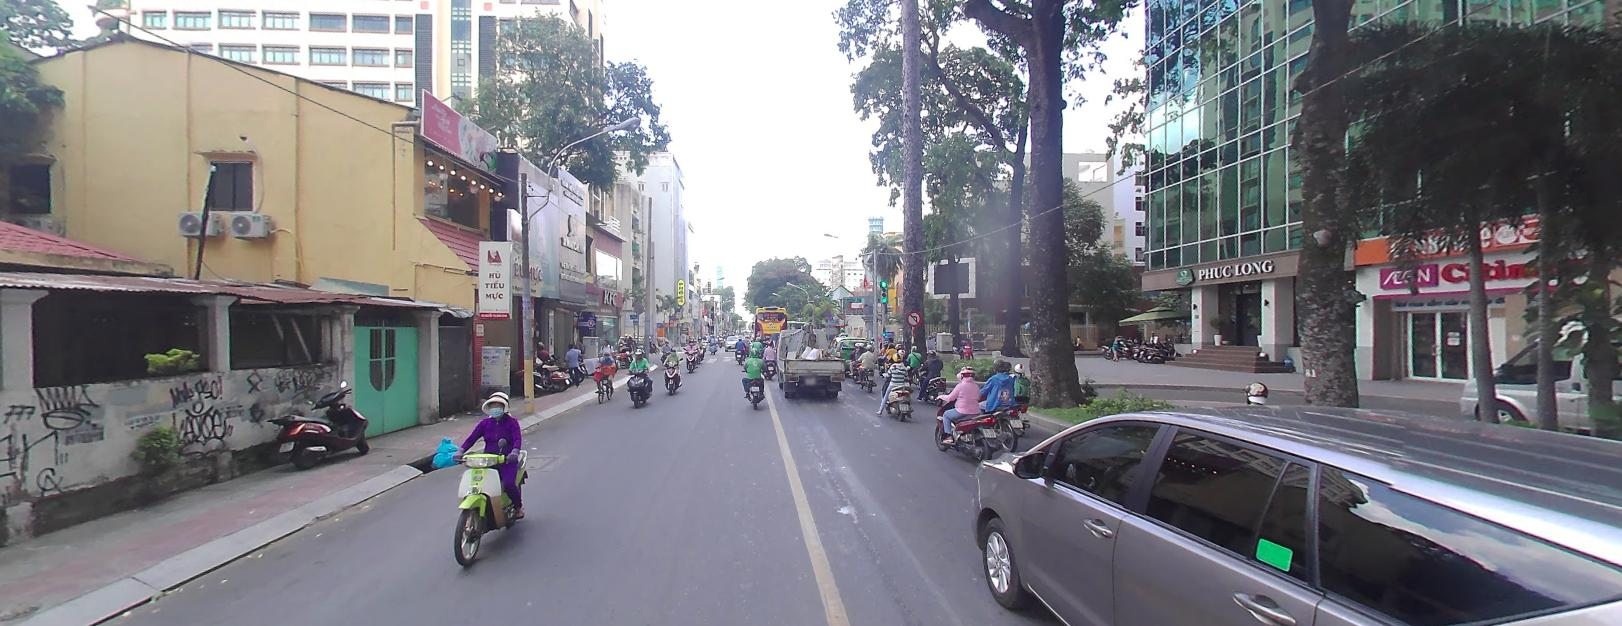Cam dung va do: (824, 309, 830, 315)
Cam re: (905, 309, 921, 325)
